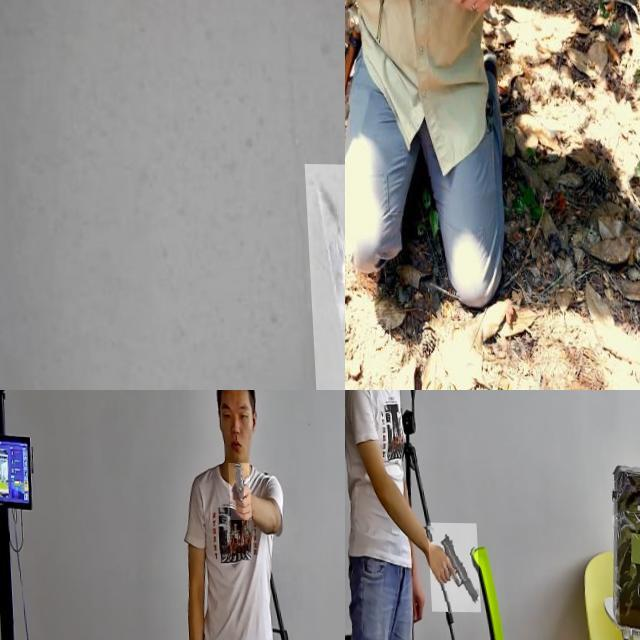-: (380, 0, 463, 36)
gun-knife-thesis - v11 Yolov5 augmented: (424, 522, 476, 611), (226, 462, 249, 520)
